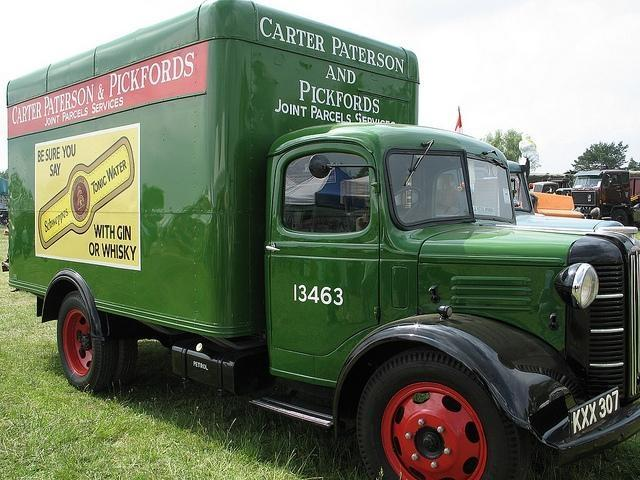truck: (7, 5, 638, 472), (572, 168, 640, 224), (530, 182, 559, 194)
